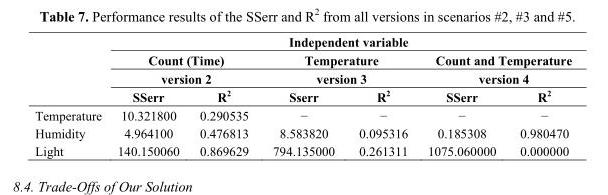table: (34, 34, 571, 157)
table column: (417, 34, 507, 157), (260, 34, 346, 157), (108, 34, 188, 157), (34, 34, 108, 157), (188, 34, 260, 157), (346, 34, 417, 157), (507, 34, 571, 157)
table column header: (34, 34, 571, 105)
table row: (34, 50, 571, 69), (34, 86, 571, 105), (34, 105, 571, 123), (34, 123, 571, 141), (34, 69, 571, 86), (34, 34, 571, 50), (34, 141, 571, 157)
table spanning cell: (108, 34, 571, 50), (260, 50, 417, 86), (417, 50, 571, 86), (108, 50, 260, 86)
